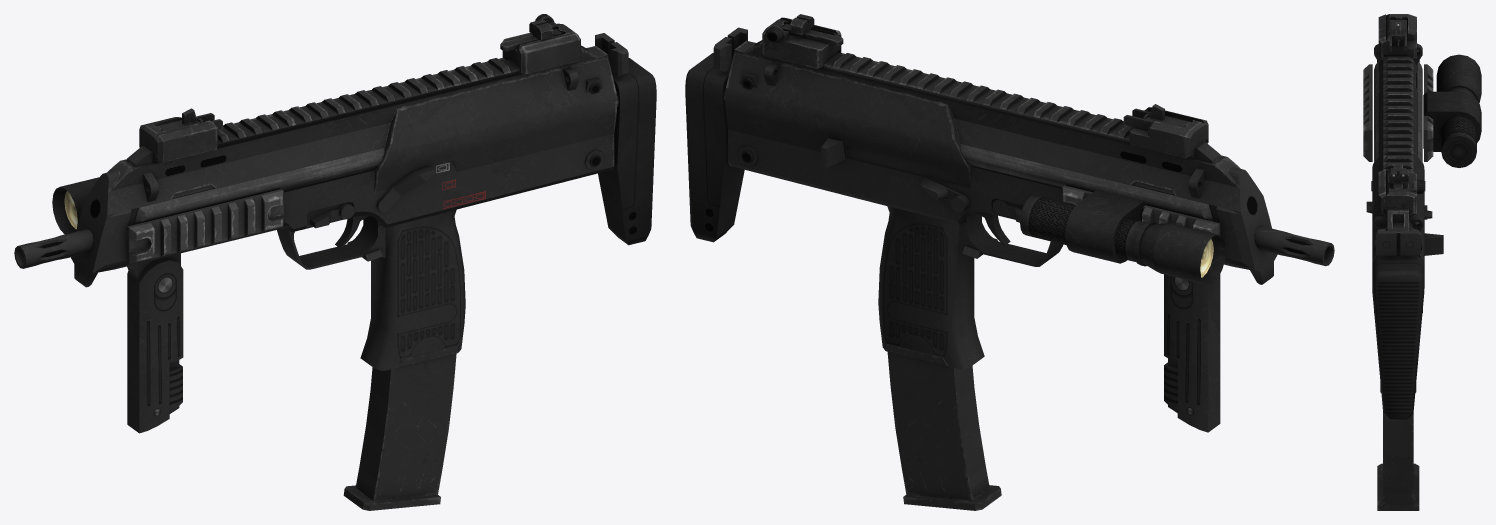
The picture shows the model from 3 angles, left to right: view 1: azimuth 30°, elevation 25°; view 2: azimuth 150°, elevation 25°; view 3: azimuth 270°, elevation 25°; orthographic projection. The views are drawn at different scales.
Visible parts, largest first — view 1: Object_5, Object_4, Object_6, Object_7, Object_9; view 2: Object_5, Object_4, Object_6, Object_9, Object_7; view 3: Object_5, Object_6, Object_9, Object_4, Object_7.
Boxes of the visible parts, <box> form: Object_5: <box>14,33,628,433</box>; Object_4: <box>343,345,458,510</box>; Object_6: <box>134,58,656,245</box>; Object_7: <box>139,14,580,162</box>; Object_9: <box>52,177,99,234</box>; Object_5: <box>713,27,1334,432</box>; Object_4: <box>885,344,1001,510</box>; Object_6: <box>685,53,1213,242</box>; Object_9: <box>1020,190,1225,284</box>; Object_7: <box>762,14,1208,158</box>; Object_5: <box>1363,43,1443,392</box>; Object_6: <box>1372,62,1424,420</box>; Object_9: <box>1423,54,1481,167</box>; Object_4: <box>1377,383,1419,510</box>; Object_7: <box>1378,14,1423,216</box>.
Size of the model in its own units: 0.6829 by 0.4644 by 0.1279.
Materials: 5 (5 with a texture image).
